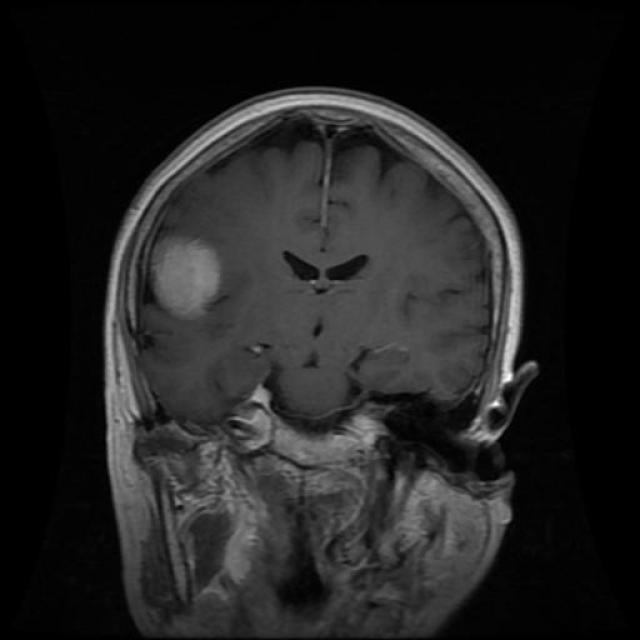meningioma: (151, 231, 224, 321)
